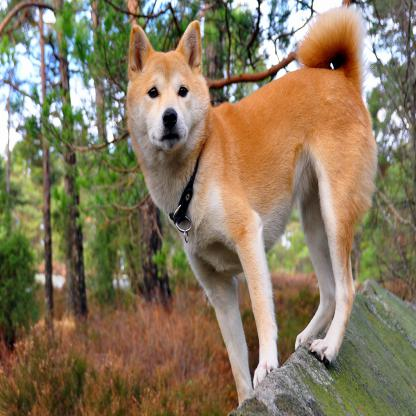Siba-ny: (125, 7, 380, 401)
